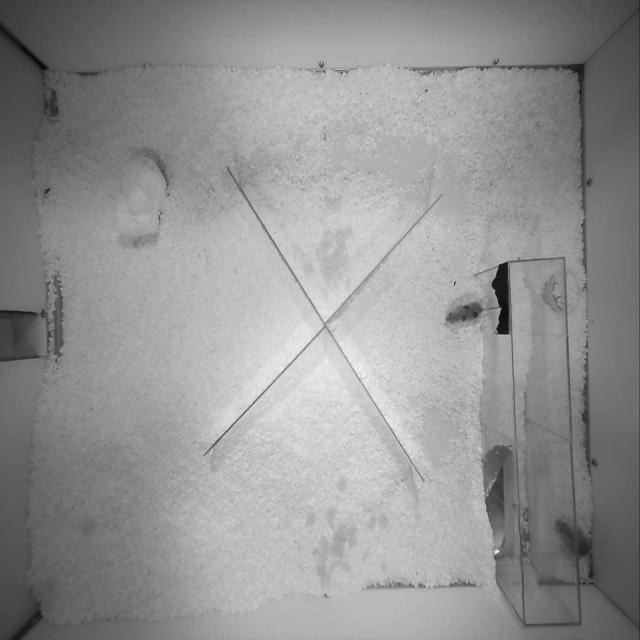pup_fluffy: (555, 519, 593, 579)
pup_spotted: (446, 301, 499, 323)
